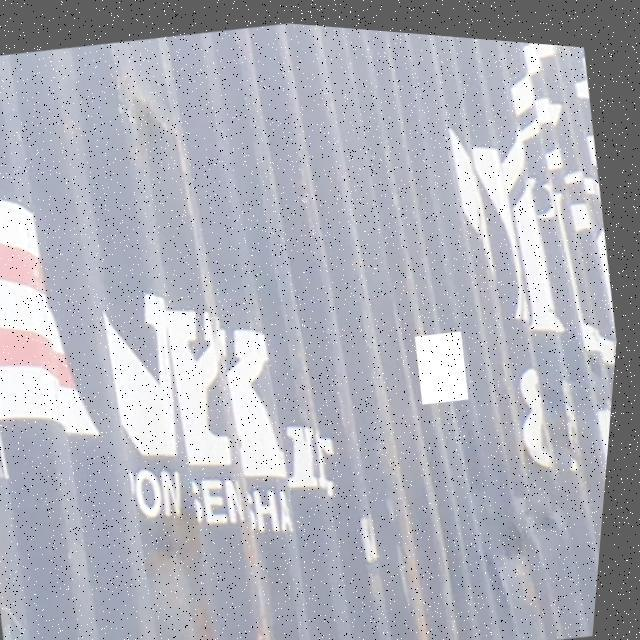dent: (440, 380, 619, 626)
